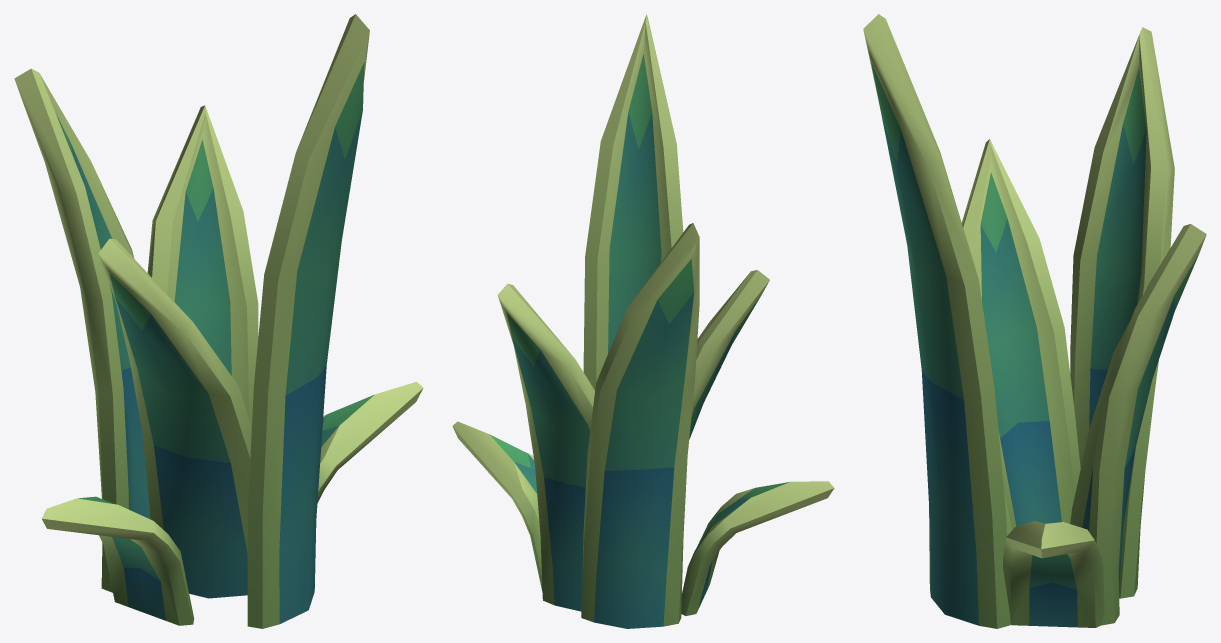
File: Sansevieria Plant-2zmROipXIE.glb
3 views of the same model, side by side, from view 1: azimuth 30°, elevation 25°; view 2: azimuth 150°, elevation 25°; view 3: azimuth 270°, elevation 25° (orthographic). The views are drawn at different scales.
Visible parts, largest first — view 1: sansevieria_plant_medium; view 2: sansevieria_plant_medium; view 3: sansevieria_plant_medium.
Boxes of the visible parts, x1,y1,x2,y2 form: sansevieria_plant_medium: [14, 14, 423, 628]; sansevieria_plant_medium: [452, 14, 834, 628]; sansevieria_plant_medium: [863, 14, 1206, 628].
Size of the model in its own units: 1.21 by 1.7 by 0.8692.
Materials: 1 (1 with a texture image).
